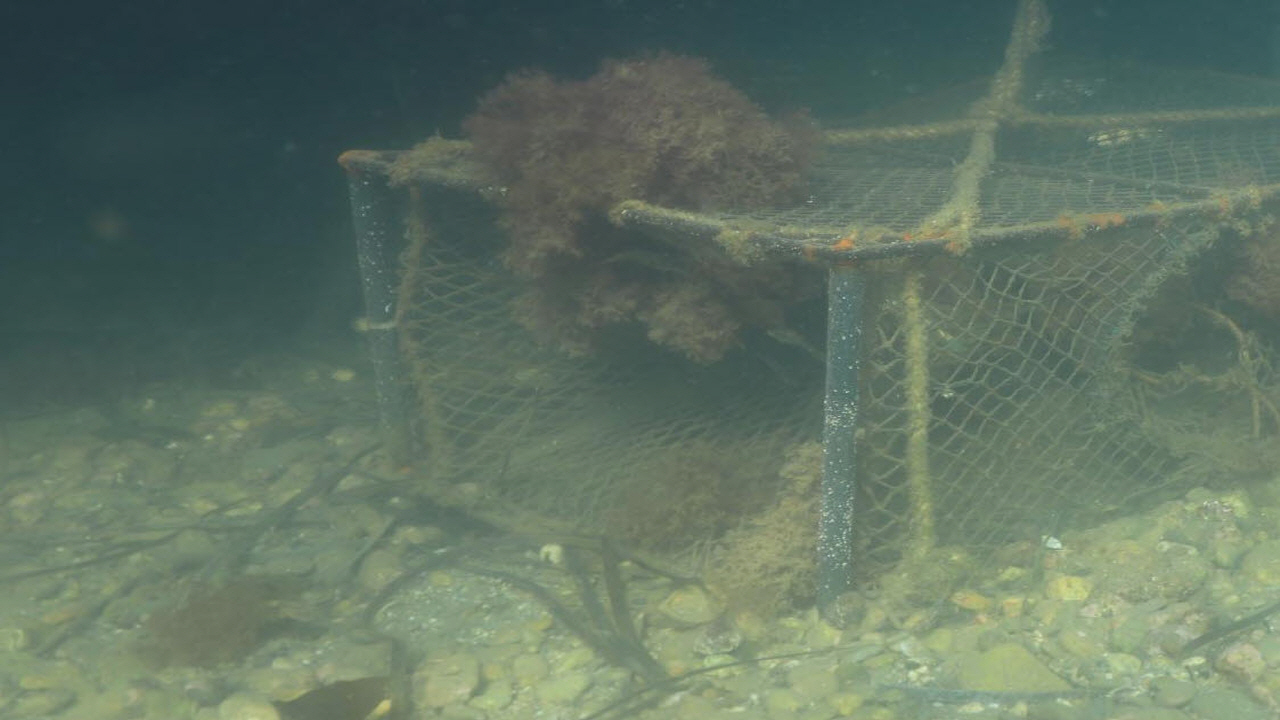bundle of ropes: (969, 0, 1051, 123)
rectangular fish trap: (336, 45, 1280, 612)
